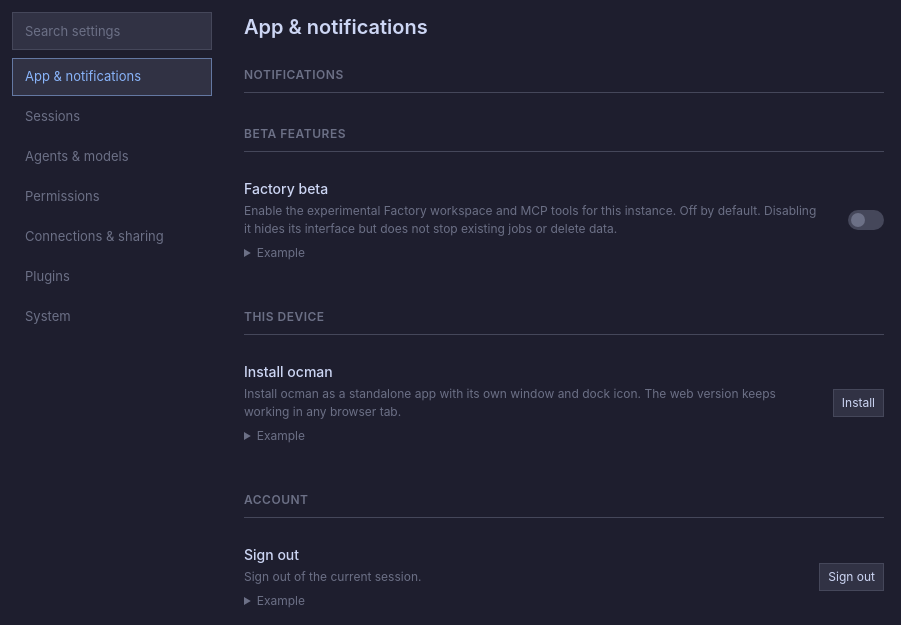
SettingsTab actions › explains why a conditional setting is missing
Type "Archive after" into the search field labelled "Search settings" at (112, 31), box [12, 12, 212, 50]
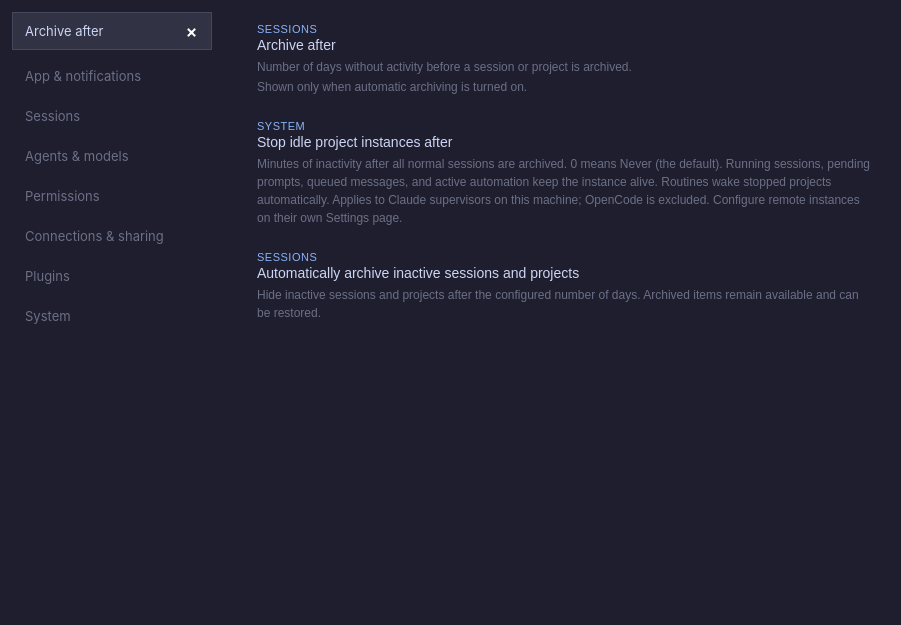
expect the button "Archive after" shows "automatic archiving is turned on": met
Click the button "Archive after" at (564, 60), box [244, 12, 884, 107]
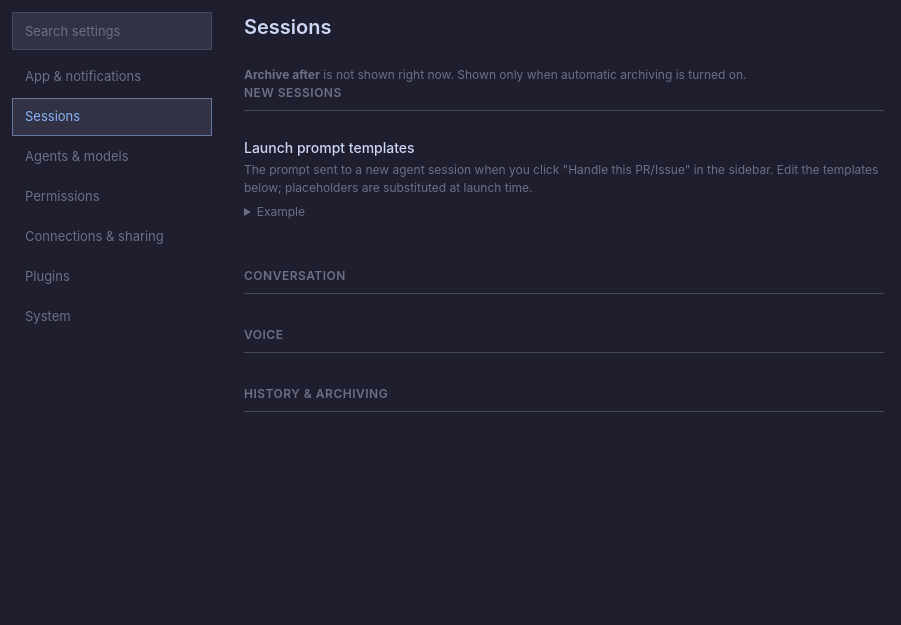
expect the message shows "Archive after is not shown right now. Shown only when automatic archiving is turned on.": met, box [244, 67, 746, 82]
